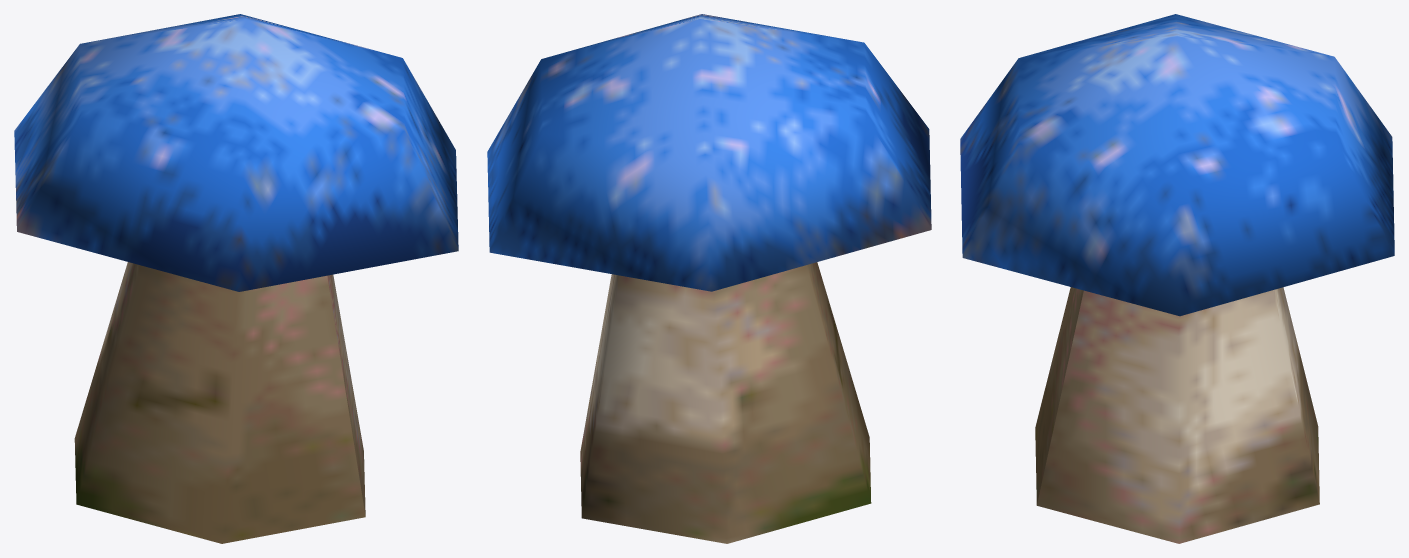
The model's file is 10104_mushroom02.FBX.
3 views of the same model, side by side, from view 1: azimuth 30°, elevation 25°; view 2: azimuth 150°, elevation 25°; view 3: azimuth 270°, elevation 25° (orthographic). The views are drawn at different scales.
Visible parts, largest first — view 1: Object002; view 2: Object002; view 3: Object002.
Boxes of the visible parts, <box> form: Object002: <box>14,14,458,543</box>; Object002: <box>487,14,931,543</box>; Object002: <box>960,14,1394,543</box>.
Bounding box in the file's own units: 31.63 × 31.56 × 27.6.
1 material, 1 textured.
